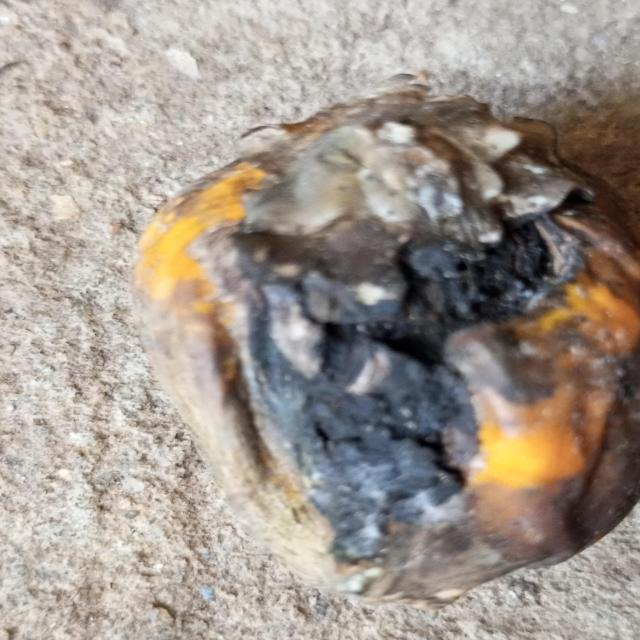damaged: (134, 74, 640, 607)
